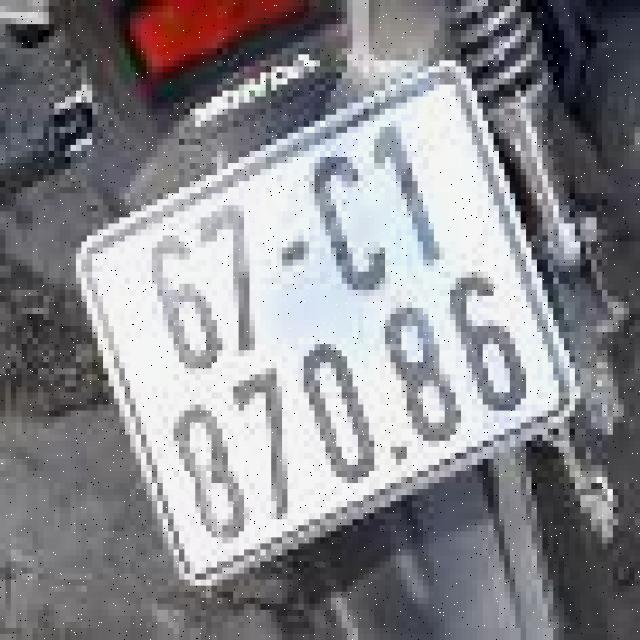0: (291, 328, 391, 499)
1: (357, 102, 469, 285)
6: (438, 252, 551, 434), (129, 221, 239, 388)
7: (218, 357, 334, 538), (190, 192, 283, 371)
8: (364, 289, 477, 457), (160, 386, 265, 562)
C: (291, 132, 408, 315)
